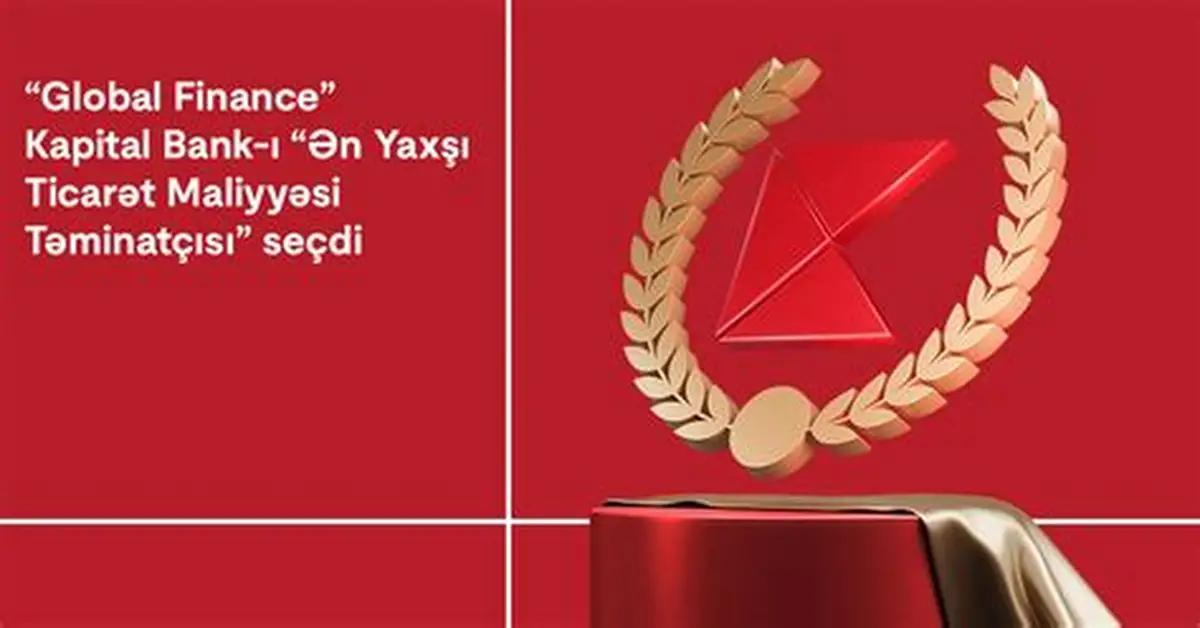Kapital Bank: (709, 138, 960, 348)
